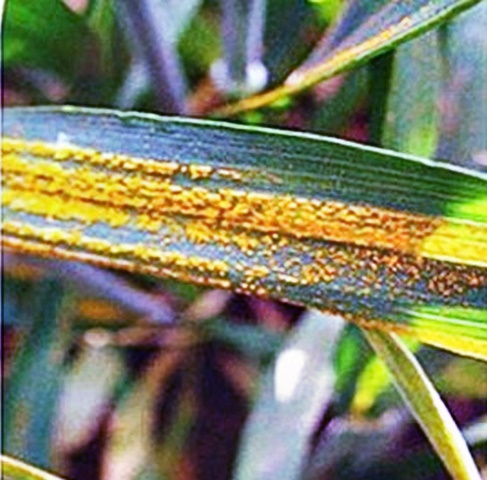Leaf Rust: (22, 136, 435, 316)
